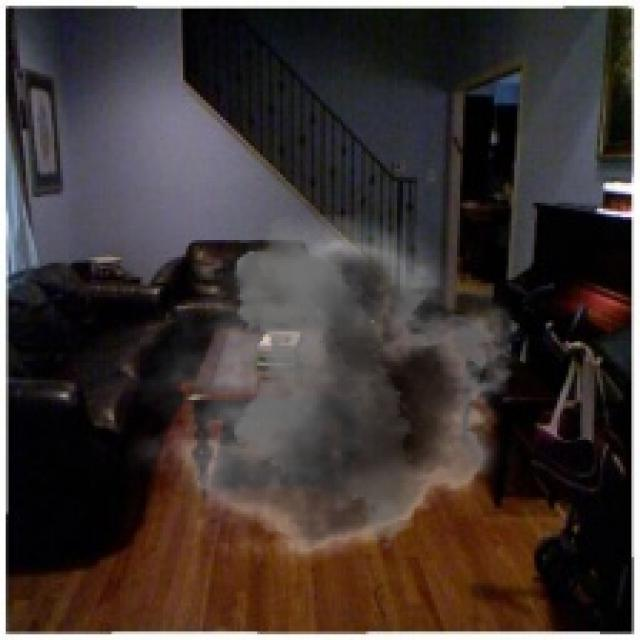Smoke: (126, 215, 534, 580)
